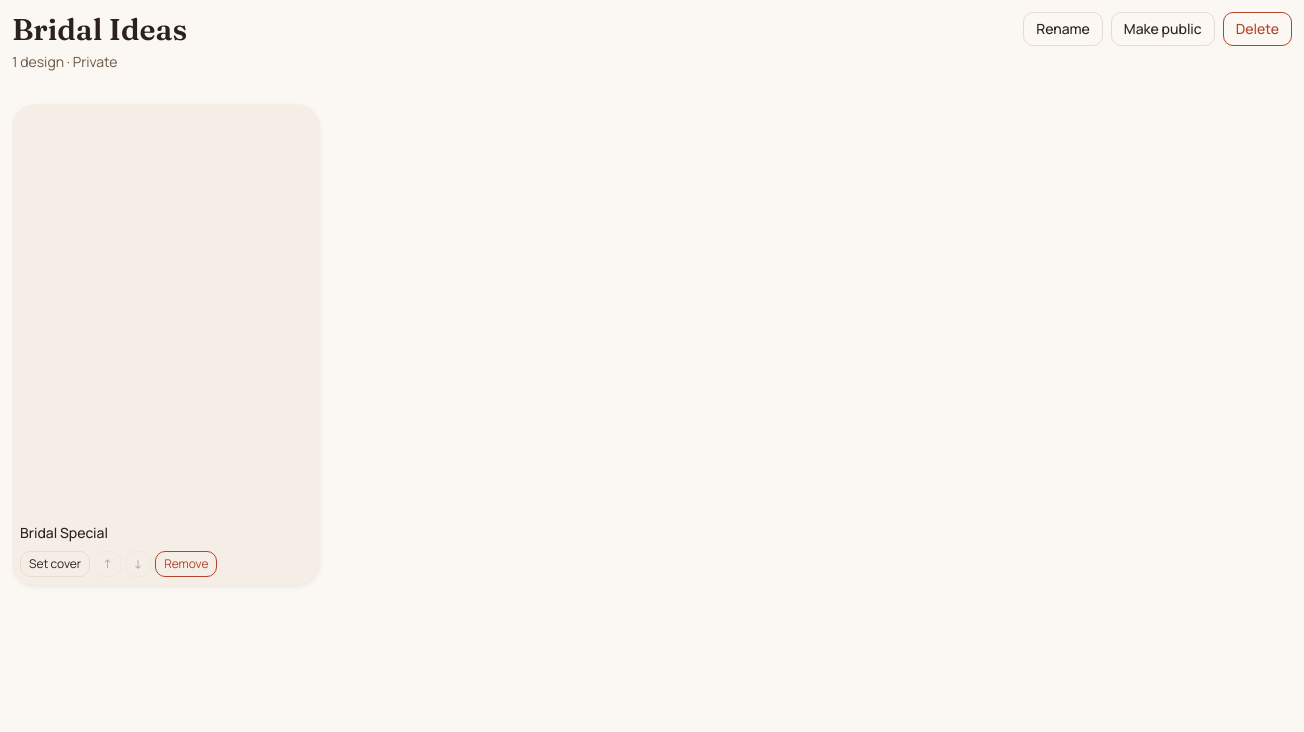
CollectionDetailView › removes an item from the collection
Expected: the text "Bridal Special" is shown, [20,523,108,542]
Click the button "Remove". click: (186, 564)
box: [155,551,218,577]
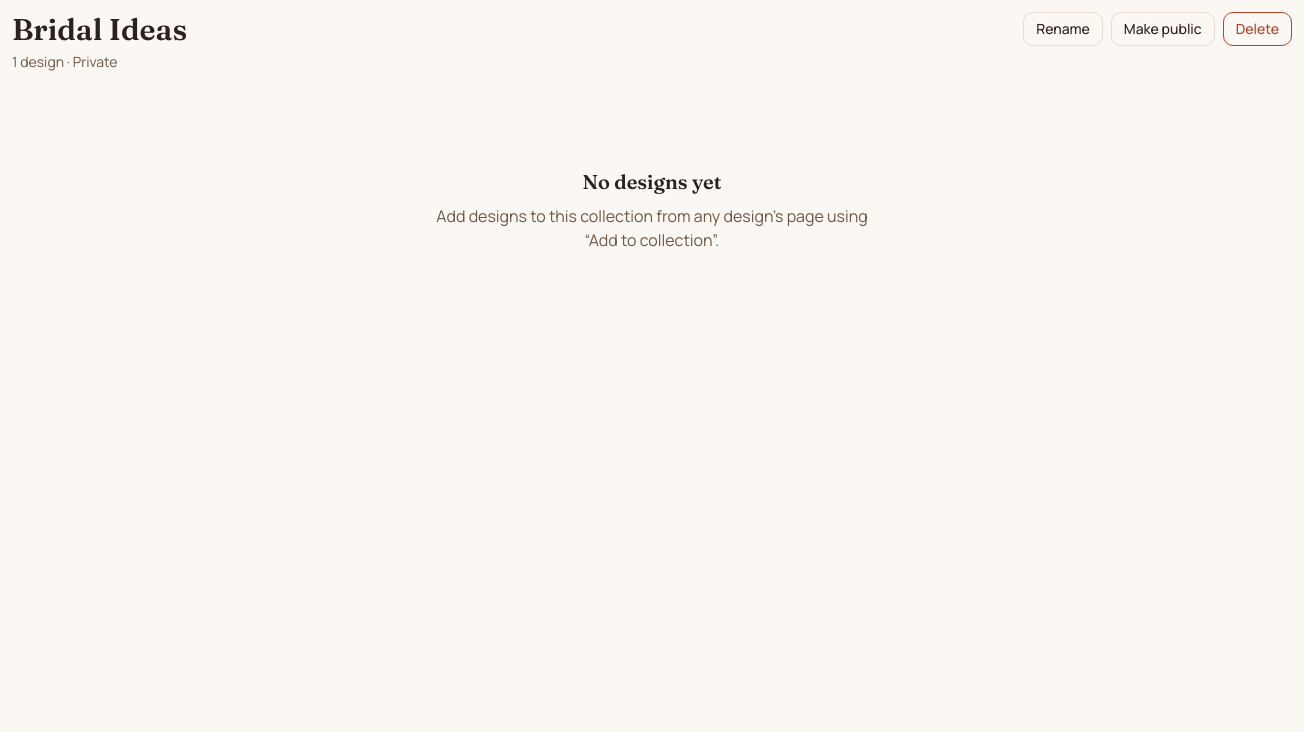
Expected: the text "Bridal Special" is gone
